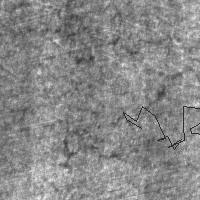crazing: (50, 105, 138, 170), (51, 1, 127, 65), (123, 106, 200, 149)
